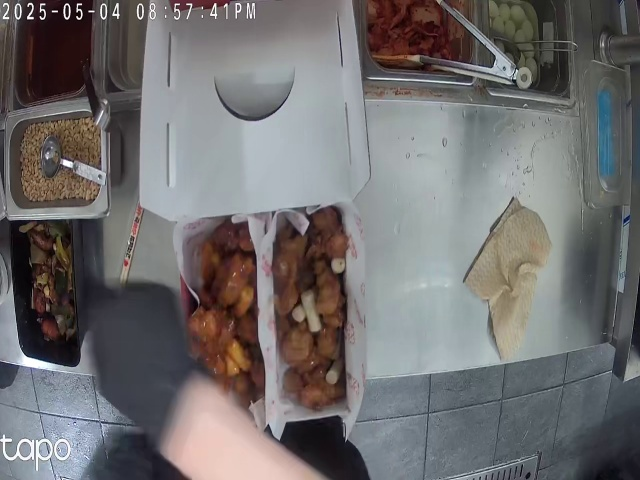delivery box: (158, 7, 360, 415)
food: (270, 213, 349, 408), (188, 225, 263, 400)
hand: (91, 294, 178, 404)
